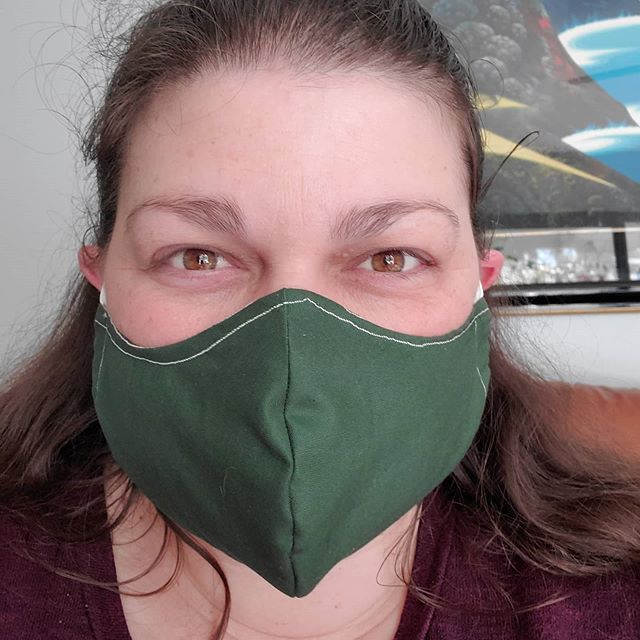homemade: (78, 288, 500, 595)
